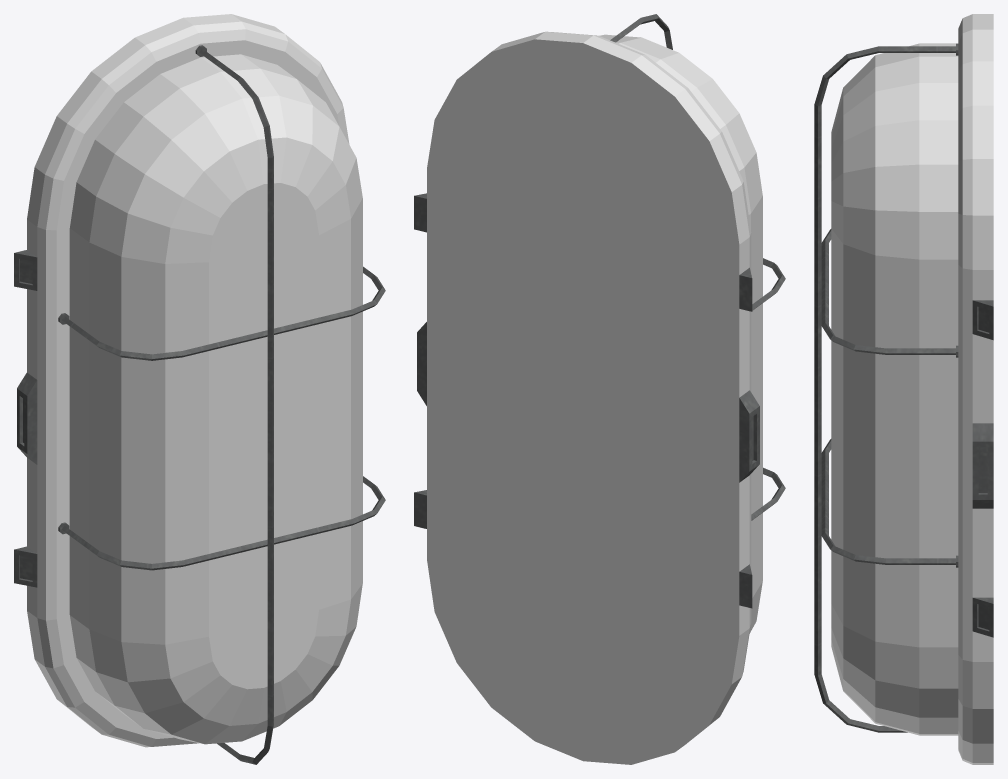
File: Lampa.fbx
3 views of the same model, side by side, from view 1: azimuth 30°, elevation 25°; view 2: azimuth 150°, elevation 25°; view 3: azimuth 270°, elevation 25° (orthographic).
Parts seen in each view (by area): view 1: L_Szkło, L_Podstawa, L_Pręt1, L_Dodatki; view 2: L_Podstawa, L_Szkło, L_Dodatki, L_Pręt1; view 3: L_Szkło, L_Podstawa, L_Pręt1, L_Dodatki.
Boxes of the visible parts, x1=… form: L_Szkło: x1=69, y1=54, x2=362, y2=744; L_Podstawa: x1=27, y1=14, x2=349, y2=747; L_Pręt1: x1=58, y1=45, x2=385, y2=764; L_Dodatki: x1=14, y1=250, x2=37, y2=587; L_Podstawa: x1=427, y1=31, x2=751, y2=764; L_Szkło: x1=599, y1=34, x2=762, y2=633; L_Dodatki: x1=414, y1=193, x2=759, y2=608; L_Pręt1: x1=610, y1=14, x2=785, y2=520; L_Szkło: x1=831, y1=43, x2=958, y2=735; L_Podstawa: x1=958, y1=14, x2=993, y2=764; L_Pręt1: x1=814, y1=43, x2=958, y2=732; L_Dodatki: x1=972, y1=300, x2=993, y2=637.
Size of the model in its own units: 14.83 by 30.09 by 6.79.
